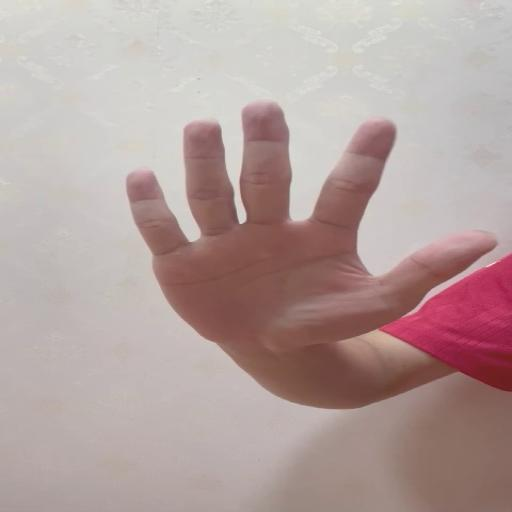open_palm: (125, 99, 498, 353)
